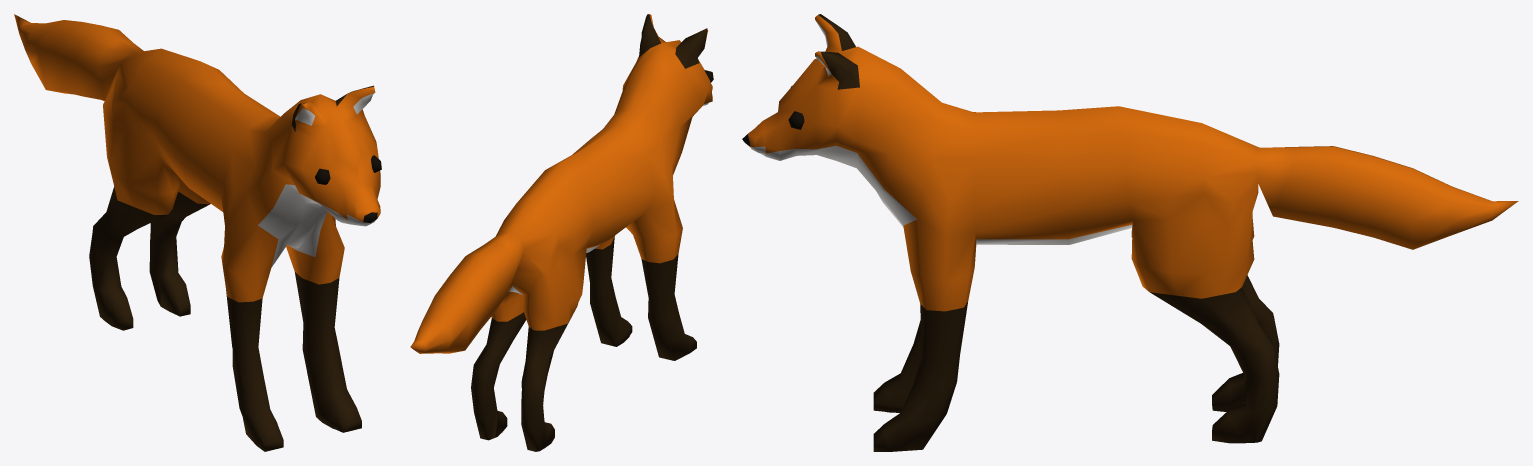
The model's file is NOVELO_FOX.obj.
The picture shows the model from 3 angles, left to right: view 1: azimuth 30°, elevation 25°; view 2: azimuth 150°, elevation 25°; view 3: azimuth 270°, elevation 25°; orthographic projection. The views are drawn at different scales.
Visible parts, largest first — view 1: Fox.2; view 2: Fox.2; view 3: Fox.2.
Boxes of the visible parts, x1,y1,x2,y2 form: Fox.2: [14, 14, 381, 451]; Fox.2: [410, 14, 713, 451]; Fox.2: [742, 14, 1518, 451].
Size of the model in its own units: 129 by 393 by 704.
